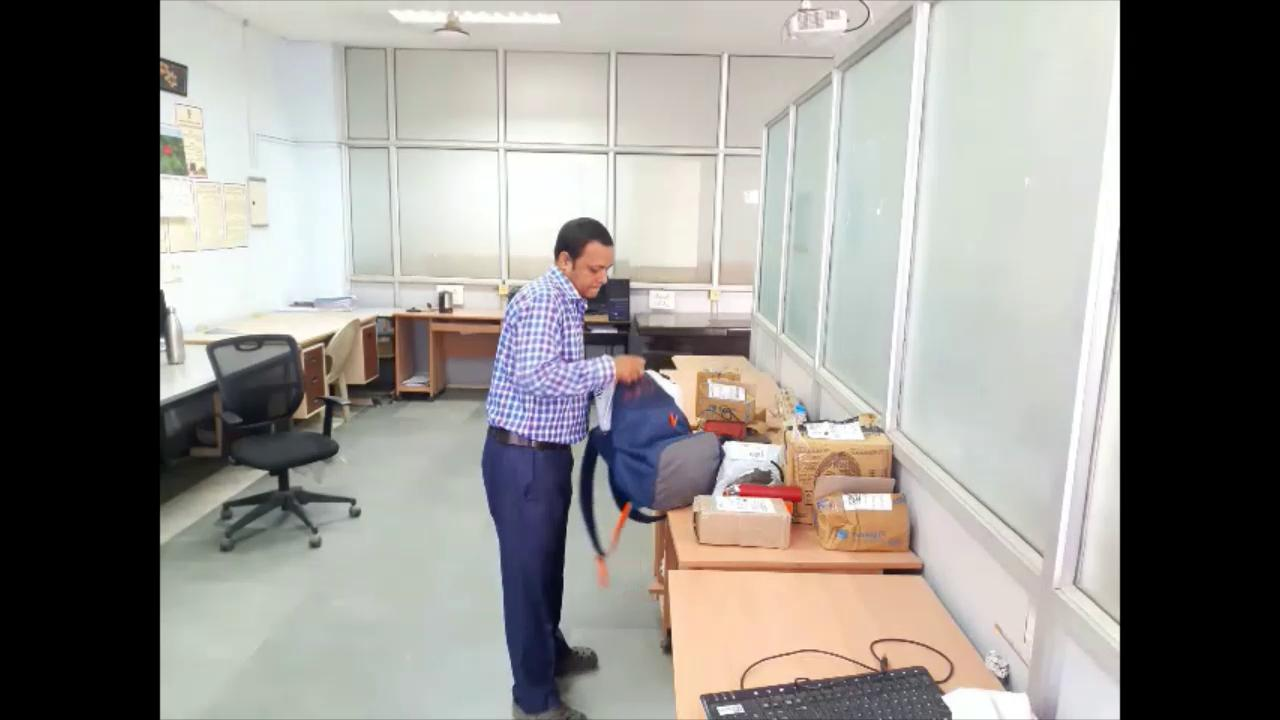shoplifting: (464, 209, 729, 720)
